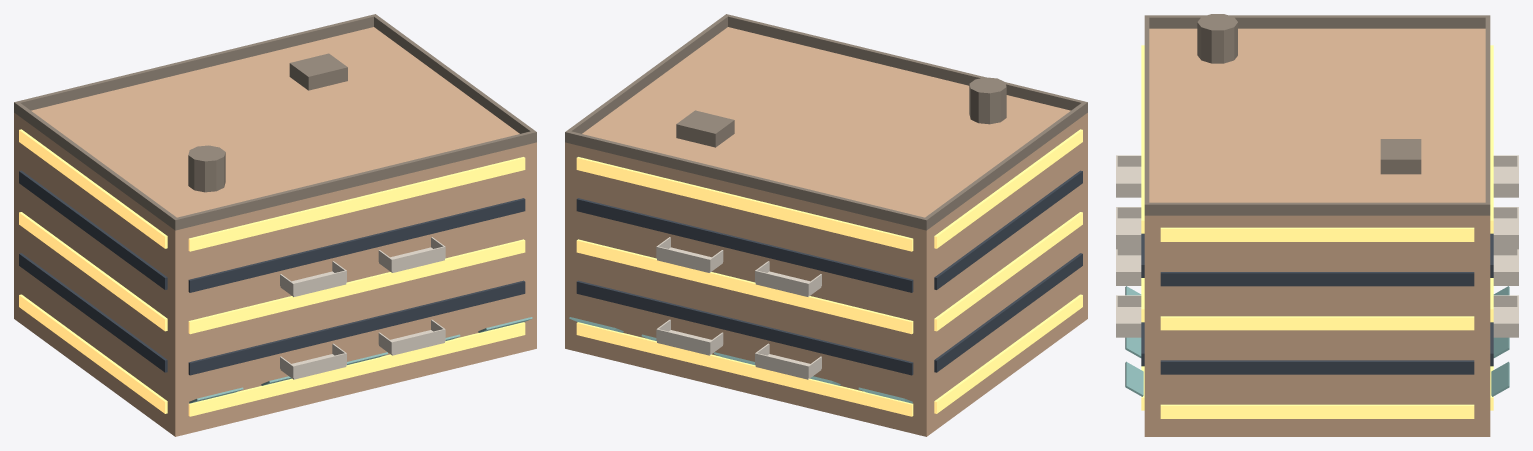
Rendered from buildingb.glb.
The picture shows the model from 3 angles, left to right: view 1: azimuth 30°, elevation 25°; view 2: azimuth 150°, elevation 25°; view 3: azimuth 270°, elevation 25°; orthographic projection. The views are drawn at different scales.
Parts seen in each view (by area): view 1: Walls, WindowsLit, Roof, WindowsDark, Balconies, Awnings; view 2: Walls, WindowsLit, Roof, WindowsDark, Balconies, Awnings; view 3: Walls, WindowsLit, Roof, WindowsDark, Balconies, Awnings.
Boxes of the visible parts, x1,y1,x2,y2 form: Walls: (14,27,536,436); WindowsLit: (19,129,525,416); Roof: (14,14,536,230); WindowsDark: (19,170,525,375); Balconies: (280,237,445,379); Awnings: (189,317,532,403); Walls: (565,27,1087,436); WindowsLit: (576,129,1082,416); Roof: (565,14,1087,230); WindowsDark: (576,170,1082,375); Balconies: (656,237,821,379); Awnings: (569,317,912,403); Walls: (1144,28,1490,436); WindowsLit: (1141,45,1493,418); Roof: (1144,14,1490,215); WindowsDark: (1141,233,1493,374); Balconies: (1116,155,1518,337); Awnings: (1125,286,1509,396).
Bounding box in the file's own units: 112 × 70.5 × 99.
